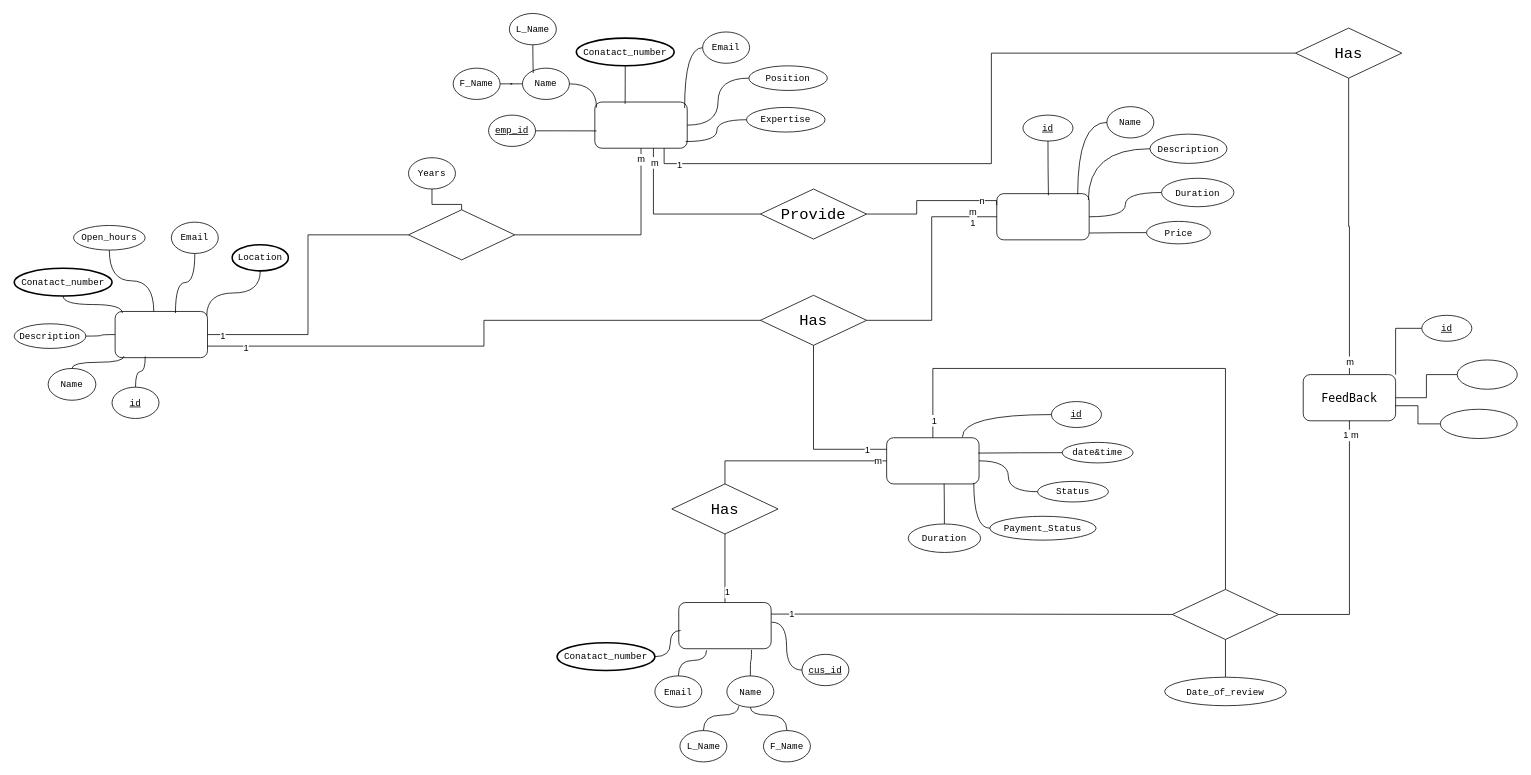
Image size: 1531x775. Some labels were removed from this diagram. Each missing label, with the centre of its shape:
"Appoinment" goes at (932,460).
"Comment" goes at (1478,423).
"Customer" goes at (724,625).
"Employee" goes at (640,124).
"Give" goes at (1225,614).
"Ratings" goes at (1486,374).
"Salon" goes at (161,334).
"Service" goes at (1042,216).
"Work" goes at (461,234).
